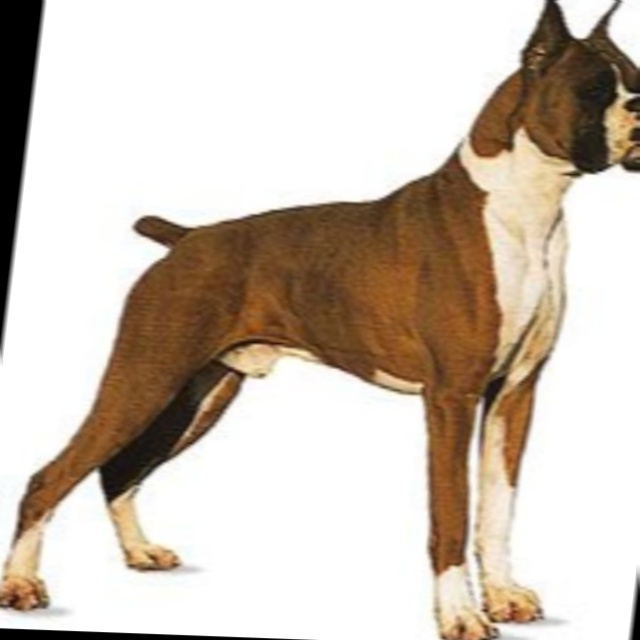dog: (0, 0, 640, 640), (0, 0, 72, 627), (606, 0, 640, 640)
